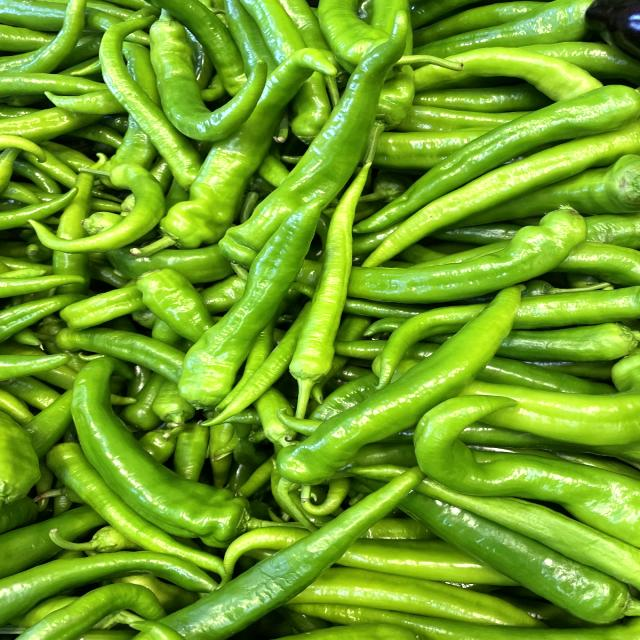green pepper: (117, 474, 456, 640), (346, 84, 640, 237), (176, 193, 329, 412), (149, 0, 272, 145)
